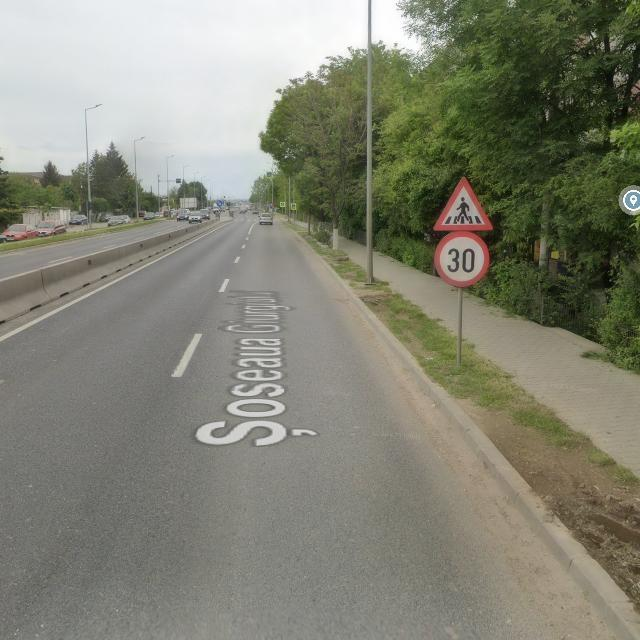forb_speed_over_30: (435, 230, 491, 288)
warn_crosswalk: (430, 177, 495, 232)
